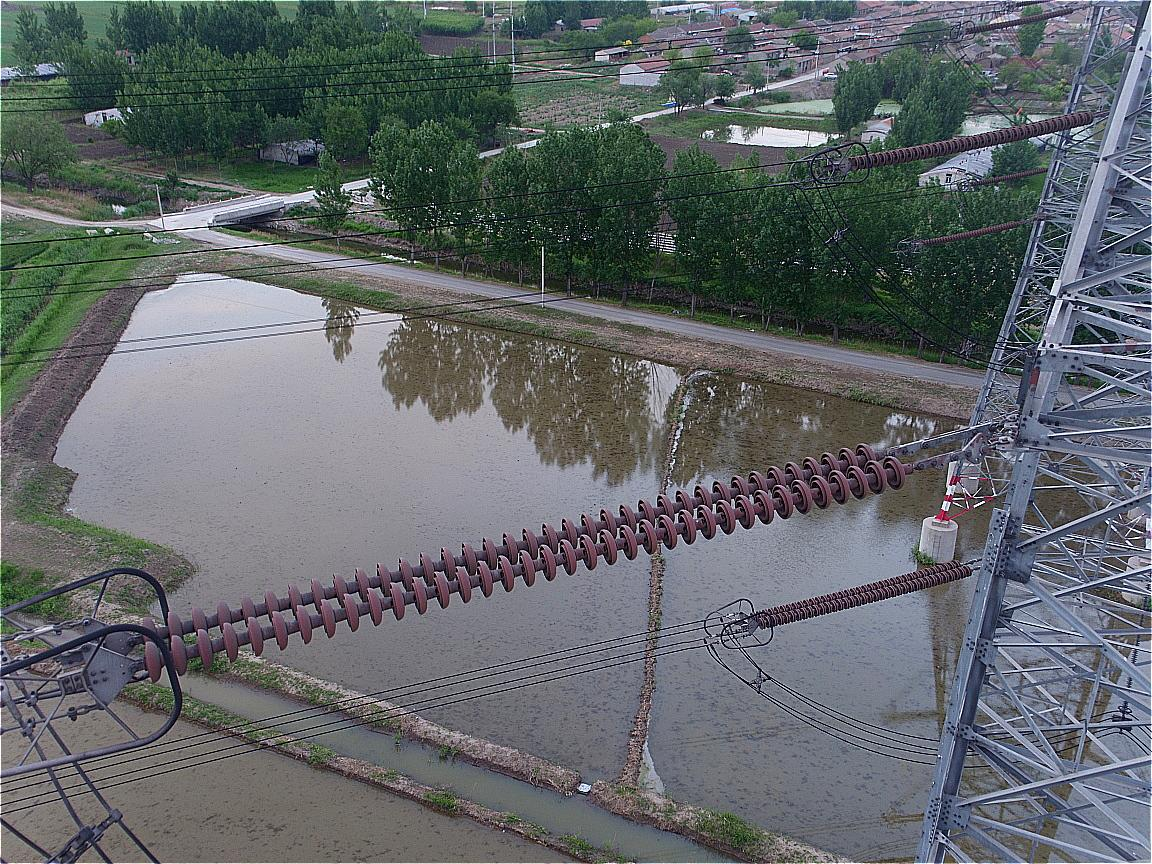insultor1: (139, 440, 905, 682)
insultor2: (849, 107, 1096, 171), (756, 557, 972, 630)
